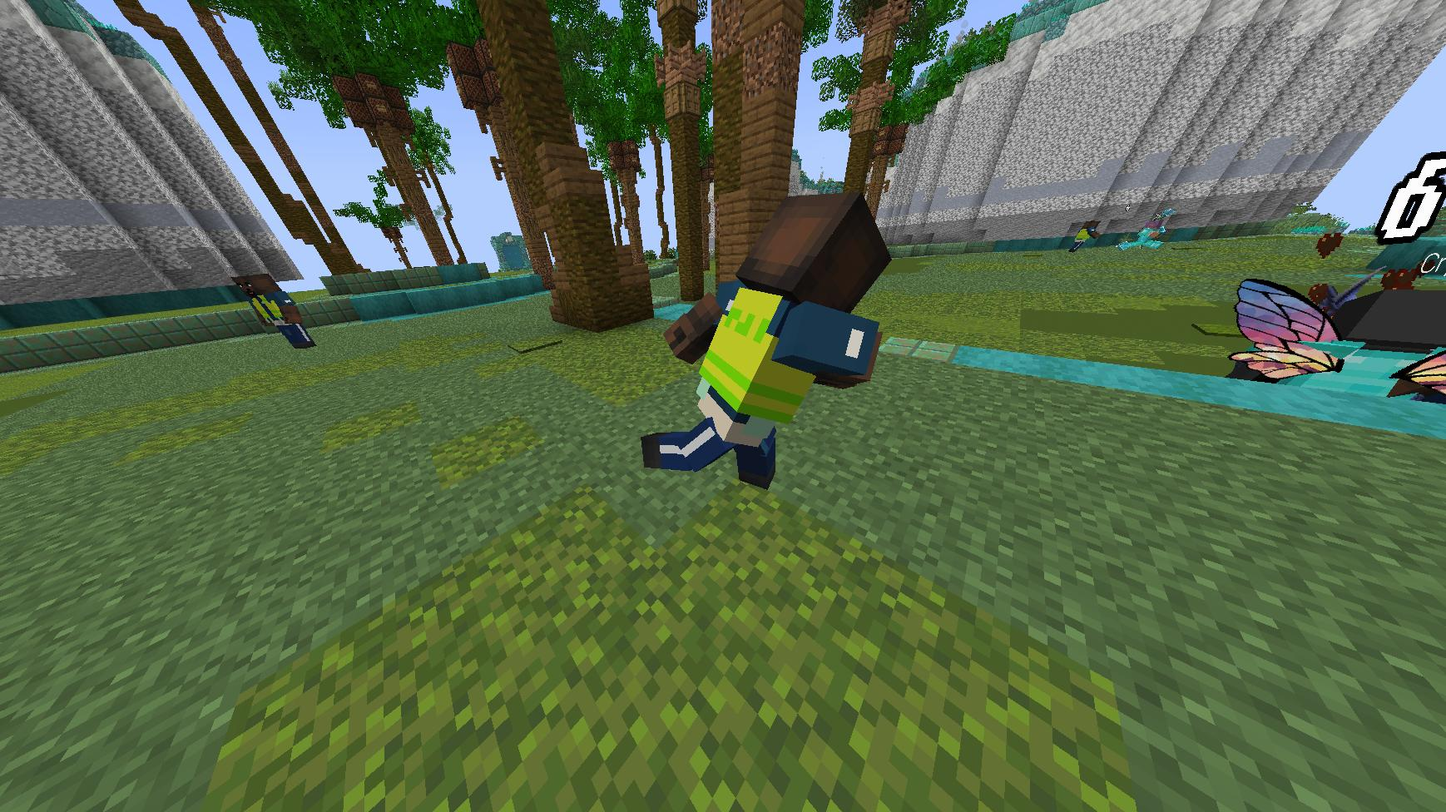Guardian: (641, 193, 889, 488), (233, 275, 316, 348), (1068, 220, 1099, 252)
